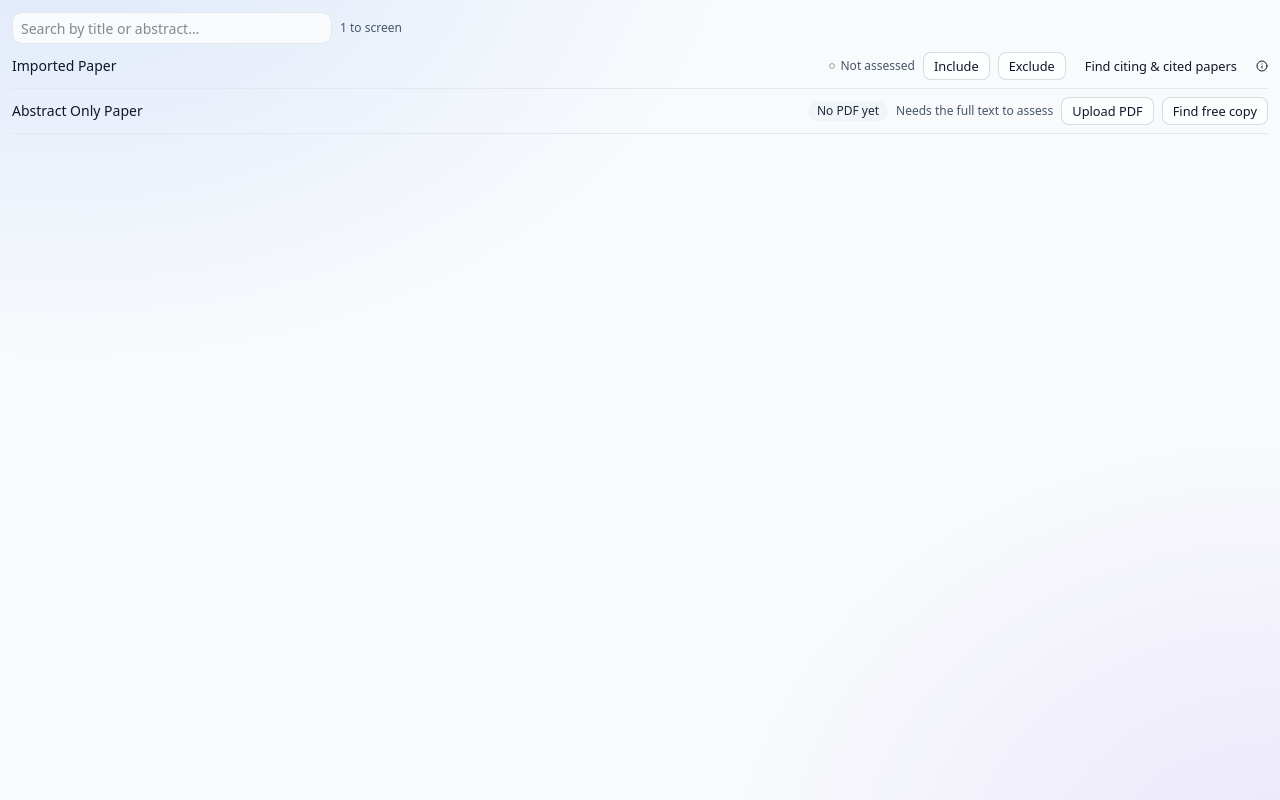
Test case: the filtered count leaves blocked rows out, like the unfiltered one
Step 1. Type "paper" into the field named "Search results to screen" → coordinates (172, 28), box x1=12 y1=12 x2=332 y2=44
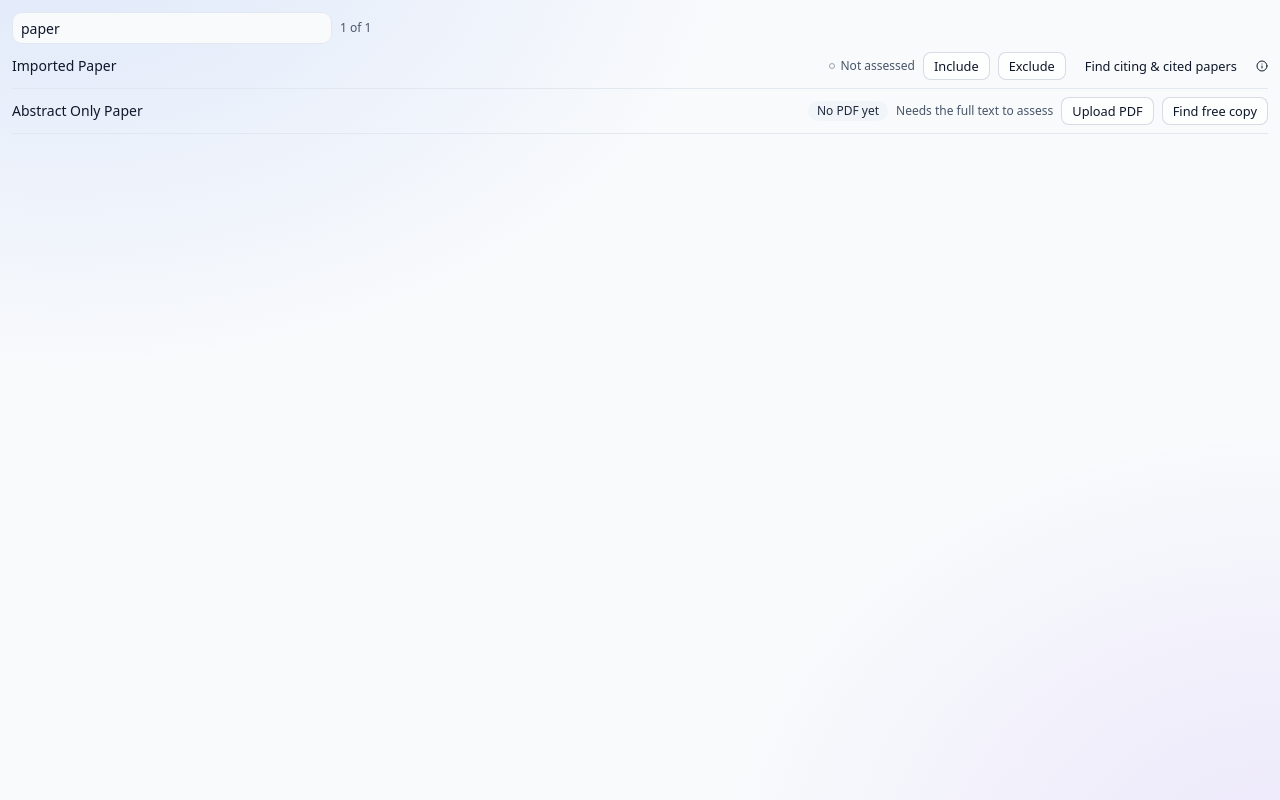
Result: the text "1 of 1" is shown at x1=340 y1=20 x2=371 y2=36
